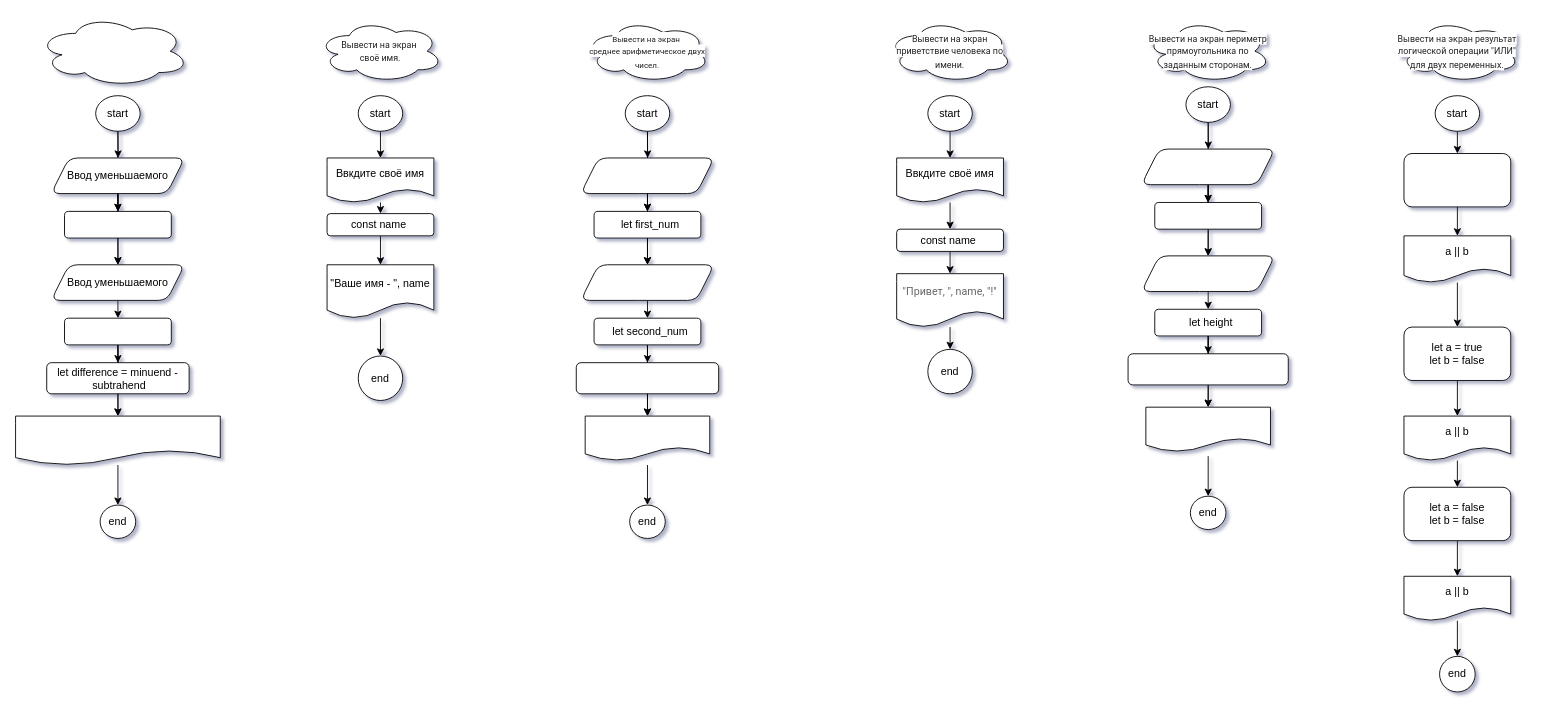
Some shapes in this 1541 by 713 pixel diagram are drawn without their labels. The centre of each missing label's shape, as x and y in pixels:
arithmetic: pixel 647 438
let a = true let b = true: pixel 1457 180
let arithmetic = ( first_num + second_num) / 2: pixel 647 378
let minuend: pixel 117 224
let result = ( width + height ) * 2: pixel 1207 369
let subtrahend: pixel 117 331
let width: pixel 1208 215
minuend, " - ", subtrahend, " = ", difference: pixel 117 440
result: pixel 1207 429
Ввод второго числа: pixel 647 282
Ввод высоты: pixel 1208 273
Ввод первого числа: pixel 647 175
Ввод ширины: pixel 1208 166
Вывести на экран результат вычитания одного числа из другого: pixel 113 51
